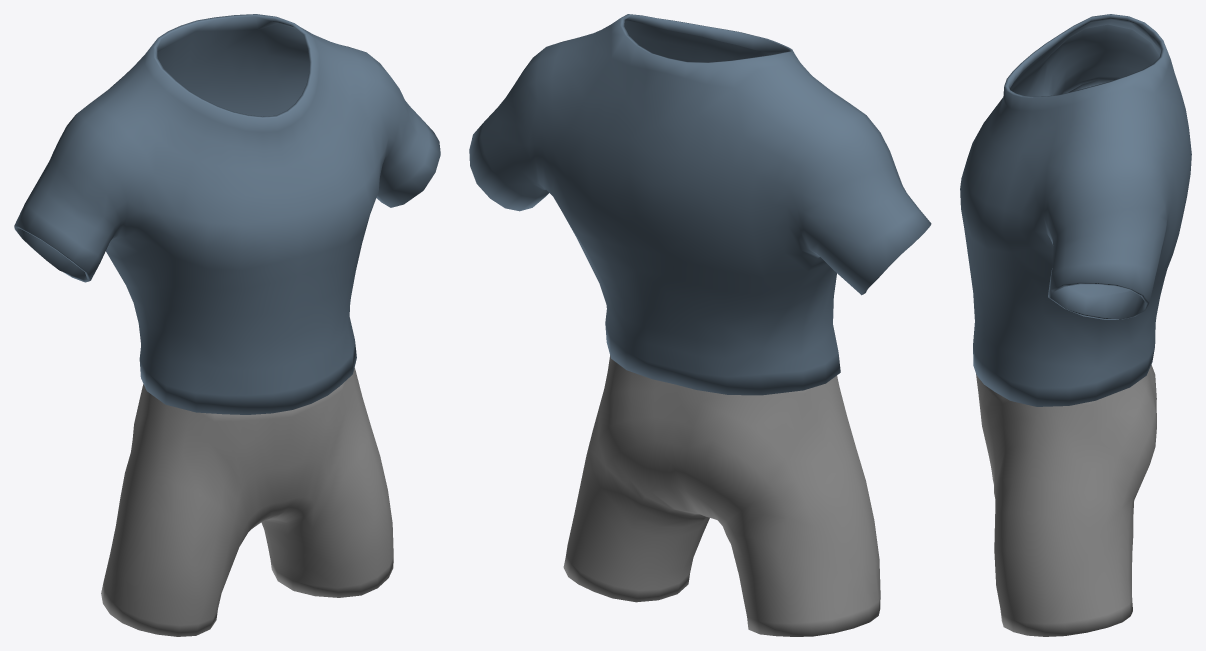
Rendered from T-Shirt_Shorts_1.FBX.
The picture shows the model from 3 angles, left to right: view 1: azimuth 30°, elevation 25°; view 2: azimuth 150°, elevation 25°; view 3: azimuth 270°, elevation 25°; orthographic projection. The views are drawn at different scales.
Parts seen in each view (by area): view 1: Rex_T-Shirt, Rex_Shorts_01; view 2: Rex_T-Shirt, Rex_Shorts_01; view 3: Rex_T-Shirt, Rex_Shorts_01.
Part boxes in pixels (bbox=[...]): Rex_T-Shirt: bbox=[14, 14, 440, 414]; Rex_Shorts_01: bbox=[101, 368, 393, 636]; Rex_T-Shirt: bbox=[469, 14, 931, 395]; Rex_Shorts_01: bbox=[563, 355, 880, 636]; Rex_T-Shirt: bbox=[960, 14, 1191, 406]; Rex_Shorts_01: bbox=[976, 364, 1156, 636].
Bounding box in the file's own units: 78.41 × 99.19 × 38.82.
